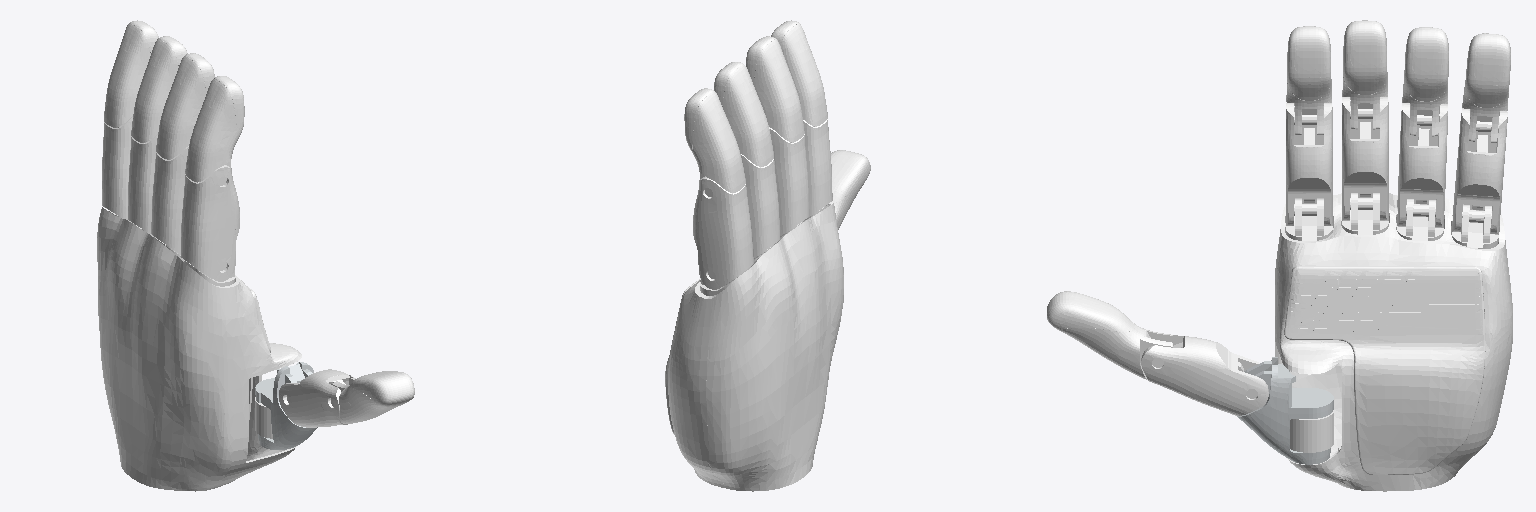
URDF robot description (Lefthand):
<?xml version="1.0" encoding="utf-8"?>
<!-- This URDF was automatically created by SolidWorks to URDF Exporter! Originally created by Stephen Brawner (brawner@gmail.com) 
     Commit Version: 1.6.0-4-g7f85cfe  Build Version: 1.6.7995.38578
     For more information, please see http://wiki.ros.org/sw_urdf_exporter -->
<robot
  name="Lefthand">
  <link
    name="Base">
    <inertial>
      <origin
        xyz="0.0036215 -0.0021518 0.066132"
        rpy="0 0 0" />
      <mass
        value="0.084057" />
      <inertia
        ixx="8.4589E-05"
        ixy="2.7311E-07"
        ixz="-3.5344E-06"
        iyy="5.0076E-05"
        iyz="-2.0882E-06"
        izz="4.5081E-05" />
    </inertial>
    <visual>
      <origin
        xyz="0 0 0"
        rpy="0 0 0" />
      <geometry>
        <mesh
          filename="package://kepler_dexterous_hand_description/meshes/left/left_base.STL" />
      </geometry>
      <material
        name="">
        <color
          rgba="1 1 1 1" />
      </material>
    </visual>
    <collision>
      <origin
        xyz="0 0 0"
        rpy="0 0 0" />
      <geometry>
        <mesh
          filename="package://kepler_dexterous_hand_description/meshes/left/left_base.STL" />
      </geometry>
    </collision>
  </link>
  <link
    name="left_thumb_1_roll">
    <inertial>
      <origin
        xyz="0.011014 0.00037884 0.0065619"
        rpy="0 0 0" />
      <mass
        value="0.024514" />
      <inertia
        ixx="3.6201E-06"
        ixy="-1.3889E-08"
        ixz="7.2521E-07"
        iyy="4.9359E-06"
        iyz="4.1496E-08"
        izz="2.9566E-06" />
    </inertial>
    <visual>
      <origin
        xyz="0 0 0"
        rpy="0 0 0" />
      <geometry>
        <mesh
          filename="package://kepler_dexterous_hand_description/meshes/left/left_thumb_1_roll.STL" />
      </geometry>
      <material
        name="">
        <color
          rgba="0.89804 0.91765 0.92941 1" />
      </material>
    </visual>
    <collision>
      <origin
        xyz="0 0 0"
        rpy="0 0 0" />
      <geometry>
        <mesh
          filename="package://kepler_dexterous_hand_description/meshes/left/left_thumb_1_roll.STL" />
      </geometry>
    </collision>
  </link>
  <joint
    name="left_thumb_1_roll"
    type="revolute">
    <origin
      xyz="0.030472 -0.035543 0.032711"
      rpy="0 0 -1.5708" />
    <parent
      link="Base" />
    <child
      link="left_thumb_1_roll" />
    <axis
      xyz="0 0 1" />
    <limit
      lower="0.000"
      upper="2.269"
      effort="0.500"
      velocity="1.500" />
  </joint>
  <link
    name="left_thumb_2_pitch">
    <inertial>
      <origin
        xyz="0.01953 -0.0066571 1.3101E-08"
        rpy="0 0 0" />
      <mass
        value="0.0287" />
      <inertia
        ixx="2.5196E-06"
        ixy="-1.4257E-06"
        ixz="9.0266E-12"
        iyy="5.6817E-06"
        iyz="-1.1074E-11"
        izz="5.8075E-06" />
    </inertial>
    <visual>
      <origin
        xyz="0 0 0"
        rpy="0 0 0" />
      <geometry>
        <mesh
          filename="package://kepler_dexterous_hand_description/meshes/left/left_thumb_2_pitch.STL" />
      </geometry>
      <material
        name="">
        <color
          rgba="1 1 1 1" />
      </material>
    </visual>
    <collision>
      <origin
        xyz="0 0 0"
        rpy="0 0 0" />
      <geometry>
        <mesh
          filename="package://kepler_dexterous_hand_description/meshes/left/left_thumb_2_pitch.STL" />
      </geometry>
    </collision>
  </link>
  <joint
    name="left_thumb_2_pitch"
    type="revolute">
    <origin
      xyz="0.024 0 0.01915"
      rpy="-1.5708 0 0" />
    <parent
      link="left_thumb_1_roll" />
    <child
      link="left_thumb_2_pitch" />
    <axis
      xyz="0 0 -1" />
    <limit
      lower="0.000"
      upper="1.309"
      effort="0.500"
      velocity="1.500" />
  </joint>
  <link
    name="left_thumb_3_pitch">
    <inertial>
      <origin
        xyz="0.022918 -0.01075 -1.3307E-08"
        rpy="0 0 0" />
      <mass
        value="0.013259" />
      <inertia
        ixx="9.3593E-07"
        ixy="-6.3056E-07"
        ixz="-4.8007E-12"
        iyy="1.7968E-06"
        iyz="1.9673E-12"
        izz="2.0568E-06" />
    </inertial>
    <visual>
      <origin
        xyz="0 0 0"
        rpy="0 0 0" />
      <geometry>
        <mesh
          filename="package://kepler_dexterous_hand_description/meshes/left/left_thumb_3_pitch.STL" />
      </geometry>
      <material
        name="">
        <color
          rgba="1 1 1 1" />
      </material>
    </visual>
    <collision>
      <origin
        xyz="0 0 0"
        rpy="0 0 0" />
      <geometry>
        <mesh
          filename="package://kepler_dexterous_hand_description/meshes/left/left_thumb_3_pitch.STL" />
      </geometry>
    </collision>
  </link>
  <joint
    name="left_thumb_3_pitch"
    type="revolute">
    <origin
      xyz="0.039467 -0.014365 0"
      rpy="0 0 0" />
    <parent
      link="left_thumb_2_pitch" />
    <child
      link="left_thumb_3_pitch" />
    <axis
      xyz="0 0 -1" />
    <limit
      lower="0.000"
      upper="1.658"
      effort="0.500"
      velocity="1.500" />
    <mimic joint="left_thumb_2_pitch" multiplier="1.2666157372039724" offset="0" />
  </joint>
  <link
    name="left_index_finger_2_pitch">
    <inertial>
      <origin
        xyz="0.00042387 -0.020629 1.9542E-08"
        rpy="0 0 0" />
      <mass
        value="0.010339" />
      <inertia
        ixx="2.2437E-06"
        ixy="2.7333E-08"
        ixz="-2.667E-12"
        iyy="7.1078E-07"
        iyz="-4.1295E-12"
        izz="2.0922E-06" />
    </inertial>
    <visual>
      <origin
        xyz="0 0 0"
        rpy="0 0 0" />
      <geometry>
        <mesh
          filename="package://kepler_dexterous_hand_description/meshes/left/left_index_finger_2_pitch.STL" />
      </geometry>
      <material
        name="">
        <color
          rgba="1 1 1 1" />
      </material>
    </visual>
    <collision>
      <origin
        xyz="0 0 0"
        rpy="0 0 0" />
      <geometry>
        <mesh
          filename="package://kepler_dexterous_hand_description/meshes/left/left_index_finger_2_pitch.STL" />
      </geometry>
    </collision>
  </link>
  <joint
    name="left_index_finger_2_pitch"
    type="revolute">
    <origin
      xyz="-0.0035478 -0.035543 0.117"
      rpy="-1.5708 0 3.1416" />
    <parent
      link="Base" />
    <child
      link="left_index_finger_2_pitch" />
    <axis
      xyz="0 0 -1" />
    <limit
      lower="0.000"
      upper="1.658"
      effort="0.500"
      velocity="1.500" />
  </joint>
  <link
    name="left_index_finger_3_pitch">
    <inertial>
      <origin
        xyz="-0.0024403 -0.021904 1.1897E-06"
        rpy="0 0 0" />
      <mass
        value="0.011204" />
      <inertia
        ixx="1.5656E-06"
        ixy="2.6558E-07"
        ixz="-1.0233E-11"
        iyy="5.19E-07"
        iyz="-9.3121E-12"
        izz="1.5727E-06" />
    </inertial>
    <visual>
      <origin
        xyz="0 0 0"
        rpy="0 0 0" />
      <geometry>
        <mesh
          filename="package://kepler_dexterous_hand_description/meshes/left/left_index_finger_3_pitch.STL" />
      </geometry>
      <material
        name="">
        <color
          rgba="1 1 1 1" />
      </material>
    </visual>
    <collision>
      <origin
        xyz="0 0 0"
        rpy="0 0 0" />
      <geometry>
        <mesh
          filename="package://kepler_dexterous_hand_description/meshes/left/left_index_finger_3_pitch.STL" />
      </geometry>
    </collision>
  </link>
  <joint
    name="left_index_finger_3_pitch"
    type="revolute">
    <origin
      xyz="0 -0.042 0"
      rpy="0 0 0" />
    <parent
      link="left_index_finger_2_pitch" />
    <child
      link="left_index_finger_3_pitch" />
    <axis
      xyz="0 0 -1" />
    <limit
      lower="0.000"
      upper="1.658"
      effort="0.500"
      velocity="1.500" />
    <mimic joint="left_index_finger_2_pitch" multiplier="1" offset="0" />
  </joint>
  <link
    name="left_middle_finger_2_pitch">
    <inertial>
      <origin
        xyz="0.00042387 -0.020629 1.9812E-08"
        rpy="0 0 0" />
      <mass
        value="0.010339" />
      <inertia
        ixx="2.2437E-06"
        ixy="2.7333E-08"
        ixz="-2.6732E-12"
        iyy="7.1078E-07"
        iyz="-4.1276E-12"
        izz="2.0922E-06" />
    </inertial>
    <visual>
      <origin
        xyz="0 0 0"
        rpy="0 0 0" />
      <geometry>
        <mesh
          filename="package://kepler_dexterous_hand_description/meshes/left/left_middle_finger_2_pitch.STL" />
      </geometry>
      <material
        name="">
        <color
          rgba="1 1 1 1" />
      </material>
    </visual>
    <collision>
      <origin
        xyz="0 0 0"
        rpy="0 0 0" />
      <geometry>
        <mesh
          filename="package://kepler_dexterous_hand_description/meshes/left/left_middle_finger_2_pitch.STL" />
      </geometry>
    </collision>
  </link>
  <joint
    name="left_middle_finger_2_pitch"
    type="revolute">
    <origin
      xyz="-0.0050473 -0.012043 0.119"
      rpy="-1.5708 0 3.1416" />
    <parent
      link="Base" />
    <child
      link="left_middle_finger_2_pitch" />
    <axis
      xyz="0 0 -1" />
    <limit
      lower="0.000"
      upper="1.658"
      effort="0.500"
      velocity="1.500" />
  </joint>
  <link
    name="left_middle_finger_3_pitch">
    <inertial>
      <origin
        xyz="-0.0024403 -0.021904 1.1896E-06"
        rpy="0 0 0" />
      <mass
        value="0.011204" />
      <inertia
        ixx="1.5656E-06"
        ixy="2.6558E-07"
        ixz="-1.0233E-11"
        iyy="5.19E-07"
        iyz="-9.3087E-12"
        izz="1.5727E-06" />
    </inertial>
    <visual>
      <origin
        xyz="0 0 0"
        rpy="0 0 0" />
      <geometry>
        <mesh
          filename="package://kepler_dexterous_hand_description/meshes/left/left_middle_finger_3_pitch.STL" />
      </geometry>
      <material
        name="">
        <color
          rgba="1 1 1 1" />
      </material>
    </visual>
    <collision>
      <origin
        xyz="0 0 0"
        rpy="0 0 0" />
      <geometry>
        <mesh
          filename="package://kepler_dexterous_hand_description/meshes/left/left_middle_finger_3_pitch.STL" />
      </geometry>
    </collision>
  </link>
  <joint
    name="left_middle_finger_3_pitch"
    type="revolute">
    <origin
      xyz="0 -0.042 0"
      rpy="0 0 0" />
    <parent
      link="left_middle_finger_2_pitch" />
    <child
      link="left_middle_finger_3_pitch" />
    <axis
      xyz="0 0 -1" />
    <limit
      lower="0.000"
      upper="1.658"
      effort="0.500"
      velocity="1.500" />
    <mimic joint="left_middle_finger_2_pitch" multiplier="1" offset="0" />
  </joint>
  <link
    name="left_ring_finger_2_pitch">
    <inertial>
      <origin
        xyz="0.00042374 -0.020629 1.7313E-08"
        rpy="0 0 0" />
      <mass
        value="0.010339" />
      <inertia
        ixx="2.2437E-06"
        ixy="2.7343E-08"
        ixz="-2.6064E-12"
        iyy="7.1078E-07"
        iyz="-4.2086E-12"
        izz="2.0922E-06" />
    </inertial>
    <visual>
      <origin
        xyz="0 0 0"
        rpy="0 0 0" />
      <geometry>
        <mesh
          filename="package://kepler_dexterous_hand_description/meshes/left/left_ring_finger_2_pitch.STL" />
      </geometry>
      <material
        name="">
        <color
          rgba="1 1 1 1" />
      </material>
    </visual>
    <collision>
      <origin
        xyz="0 0 0"
        rpy="0 0 0" />
      <geometry>
        <mesh
          filename="package://kepler_dexterous_hand_description/meshes/left/left_ring_finger_2_pitch.STL" />
      </geometry>
    </collision>
  </link>
  <joint
    name="left_ring_finger_2_pitch"
    type="revolute">
    <origin
      xyz="-0.0035462 0.011289 0.11663"
      rpy="-1.5359 0 3.1415" />
    <parent
      link="Base" />
    <child
      link="left_ring_finger_2_pitch" />
    <axis
      xyz="0 0 -1" />
    <limit
      lower="0.000"
      upper="1.658"
      effort="0.500"
      velocity="1.500" />
  </joint>
  <link
    name="left_ring_finger_3_pitch">
    <inertial>
      <origin
        xyz="-0.0024404 -0.021904 1.1908E-06"
        rpy="0 0 0" />
      <mass
        value="0.011204" />
      <inertia
        ixx="1.5656E-06"
        ixy="2.6559E-07"
        ixz="-1.0182E-11"
        iyy="5.19E-07"
        iyz="-9.1324E-12"
        izz="1.5727E-06" />
    </inertial>
    <visual>
      <origin
        xyz="0 0 0"
        rpy="0 0 0" />
      <geometry>
        <mesh
          filename="package://kepler_dexterous_hand_description/meshes/left/left_ring_finger_3_pitch.STL" />
      </geometry>
      <material
        name="">
        <color
          rgba="1 1 1 1" />
      </material>
    </visual>
    <collision>
      <origin
        xyz="0 0 0"
        rpy="0 0 0" />
      <geometry>
        <mesh
          filename="package://kepler_dexterous_hand_description/meshes/left/left_ring_finger_3_pitch.STL" />
      </geometry>
    </collision>
  </link>
  <joint
    name="left_ring_finger_3_pitch"
    type="revolute">
    <origin
      xyz="0 -0.042 0"
      rpy="0 0 0" />
    <parent
      link="left_ring_finger_2_pitch" />
    <child
      link="left_ring_finger_3_pitch" />
    <axis
      xyz="0 0 -1" />
    <limit
      lower="0.000"
      upper="1.658"
      effort="0.500"
      velocity="1.500" />
    <mimic joint="left_ring_finger_2_pitch" multiplier="1" offset="0" />
  </joint>
  <link
    name="left_little_finger_2_pitch">
    <inertial>
      <origin
        xyz="0.00042387 -0.020629 1.726E-08"
        rpy="0 0 0" />
      <mass
        value="0.010339" />
      <inertia
        ixx="2.2437E-06"
        ixy="2.7333E-08"
        ixz="-2.6107E-12"
        iyy="7.1078E-07"
        iyz="-4.2189E-12"
        izz="2.0922E-06" />
    </inertial>
    <visual>
      <origin
        xyz="0 0 0"
        rpy="0 0 0" />
      <geometry>
        <mesh
          filename="package://kepler_dexterous_hand_description/meshes/left/left_little_finger_2_pitch.STL" />
      </geometry>
      <material
        name="">
        <color
          rgba="1 1 1 1" />
      </material>
    </visual>
    <collision>
      <origin
        xyz="0 0 0"
        rpy="0 0 0" />
      <geometry>
        <mesh
          filename="package://kepler_dexterous_hand_description/meshes/left/left_little_finger_2_pitch.STL" />
      </geometry>
    </collision>
  </link>
  <joint
    name="left_little_finger_2_pitch"
    type="revolute">
    <origin
      xyz="-0.0032932 0.034634 0.11395"
      rpy="-1.501 0 3.1416" />
    <parent
      link="Base" />
    <child
      link="left_little_finger_2_pitch" />
    <axis
      xyz="0 0 -1" />
    <limit
      lower="0.000"
      upper="1.658"
      effort="0.500"
      velocity="1.500" />
  </joint>
  <link
    name="left_little_finger_3_pitch">
    <inertial>
      <origin
        xyz="-0.0024403 -0.021904 1.1898E-06"
        rpy="0 0 0" />
      <mass
        value="0.011204" />
      <inertia
        ixx="1.5656E-06"
        ixy="2.6558E-07"
        ixz="-1.0172E-11"
        iyy="5.19E-07"
        iyz="-9.0785E-12"
        izz="1.5727E-06" />
    </inertial>
    <visual>
      <origin
        xyz="0 0 0"
        rpy="0 0 0" />
      <geometry>
        <mesh
          filename="package://kepler_dexterous_hand_description/meshes/left/left_little_finger_3_pitch.STL" />
      </geometry>
      <material
        name="">
        <color
          rgba="1 1 1 1" />
      </material>
    </visual>
    <collision>
      <origin
        xyz="0 0 0"
        rpy="0 0 0" />
      <geometry>
        <mesh
          filename="package://kepler_dexterous_hand_description/meshes/left/left_little_finger_3_pitch.STL" />
      </geometry>
    </collision>
  </link>
  <joint
    name="left_little_finger_3_pitch"
    type="revolute">
    <origin
      xyz="0 -0.042 0"
      rpy="0 0 0" />
    <parent
      link="left_little_finger_2_pitch" />
    <child
      link="left_little_finger_3_pitch" />
    <axis
      xyz="0 0 -1" />
    <limit
      lower="0.000"
      upper="1.658"
      effort="0.500"
      velocity="1.500" />
    <mimic joint="left_little_finger_2_pitch" multiplier="1" offset="0" />
  </joint>
</robot>

--- Render facts (derived) ---
The picture shows the robot from 3 angles, left to right: view 1: azimuth 30°, elevation 25°; view 2: azimuth 150°, elevation 25°; view 3: azimuth 270°, elevation 25°; orthographic projection.
Model Lefthand with 12 links and 11 joints (11 revolute), rooted at Base, posed all joints at 0.
Visible links, largest first — view 1: Base, left_index_finger_2_pitch, left_index_finger_3_pitch, left_middle_finger_3_pitch, left_little_finger_3_pitch, left_ring_finger_3_pitch, left_thumb_3_pitch, left_thumb_2_pitch, left_middle_finger_2_pitch, left_thumb_1_roll, left_little_finger_2_pitch, left_ring_finger_2_pitch; view 2: Base, left_little_finger_2_pitch, left_little_finger_3_pitch, left_middle_finger_3_pitch, left_ring_finger_3_pitch, left_index_finger_3_pitch, left_middle_finger_2_pitch, left_ring_finger_2_pitch, left_index_finger_2_pitch, left_thumb_3_pitch; view 3: Base, left_thumb_2_pitch, left_thumb_3_pitch, left_ring_finger_2_pitch, left_little_finger_2_pitch, left_thumb_1_roll, left_middle_finger_2_pitch, left_index_finger_2_pitch, left_index_finger_3_pitch, left_middle_finger_3_pitch, left_little_finger_3_pitch, left_ring_finger_3_pitch.
Link boxes in pixels (<box>): Base: <box>97,207,301,491</box>; left_index_finger_2_pitch: <box>180,165,239,281</box>; left_index_finger_3_pitch: <box>185,76,244,182</box>; left_middle_finger_3_pitch: <box>156,53,214,159</box>; left_little_finger_3_pitch: <box>104,20,158,127</box>; left_ring_finger_3_pitch: <box>131,36,187,142</box>; left_thumb_3_pitch: <box>331,371,414,423</box>; left_thumb_2_pitch: <box>279,369,355,427</box>; left_middle_finger_2_pitch: <box>151,146,188,253</box>; left_thumb_1_roll: <box>255,362,317,449</box>; left_little_finger_2_pitch: <box>102,116,133,223</box>; left_ring_finger_2_pitch: <box>128,134,157,237</box>; Base: <box>665,203,843,491</box>; left_little_finger_2_pitch: <box>693,176,753,289</box>; left_little_finger_3_pitch: <box>684,88,745,192</box>; left_middle_finger_3_pitch: <box>746,36,804,142</box>; left_ring_finger_3_pitch: <box>714,62,773,166</box>; left_index_finger_3_pitch: <box>771,20,827,126</box>; left_middle_finger_2_pitch: <box>769,127,808,235</box>; left_ring_finger_2_pitch: <box>741,154,779,257</box>; left_index_finger_2_pitch: <box>803,119,832,217</box>; left_thumb_3_pitch: <box>829,150,870,229</box>; Base: <box>1275,193,1512,491</box>; left_thumb_2_pitch: <box>1141,335,1268,415</box>; left_thumb_3_pitch: <box>1047,291,1172,379</box>; left_ring_finger_2_pitch: <box>1397,103,1447,227</box>; left_little_finger_2_pitch: <box>1452,108,1507,234</box>; left_thumb_1_roll: <box>1237,357,1333,464</box>; left_middle_finger_2_pitch: <box>1342,97,1388,220</box>; left_index_finger_2_pitch: <box>1285,103,1332,225</box>; left_index_finger_3_pitch: <box>1286,26,1331,134</box>; left_middle_finger_3_pitch: <box>1342,20,1387,129</box>; left_little_finger_3_pitch: <box>1462,33,1510,142</box>; left_ring_finger_3_pitch: <box>1402,27,1448,136</box>.
Bounding box of the posed robot: 0.0679 × 0.1958 × 0.2062 m (x, y, z).
Meshes: 12 distinct files referenced, 12 mesh visuals loaded (12 binary STL).
